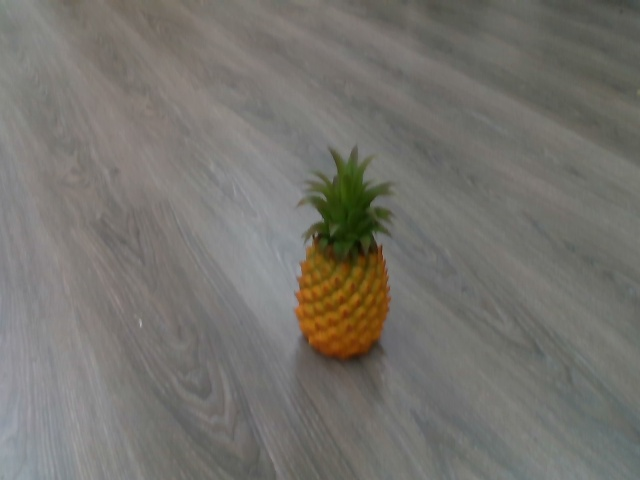pineapple: (291, 144, 397, 359)
